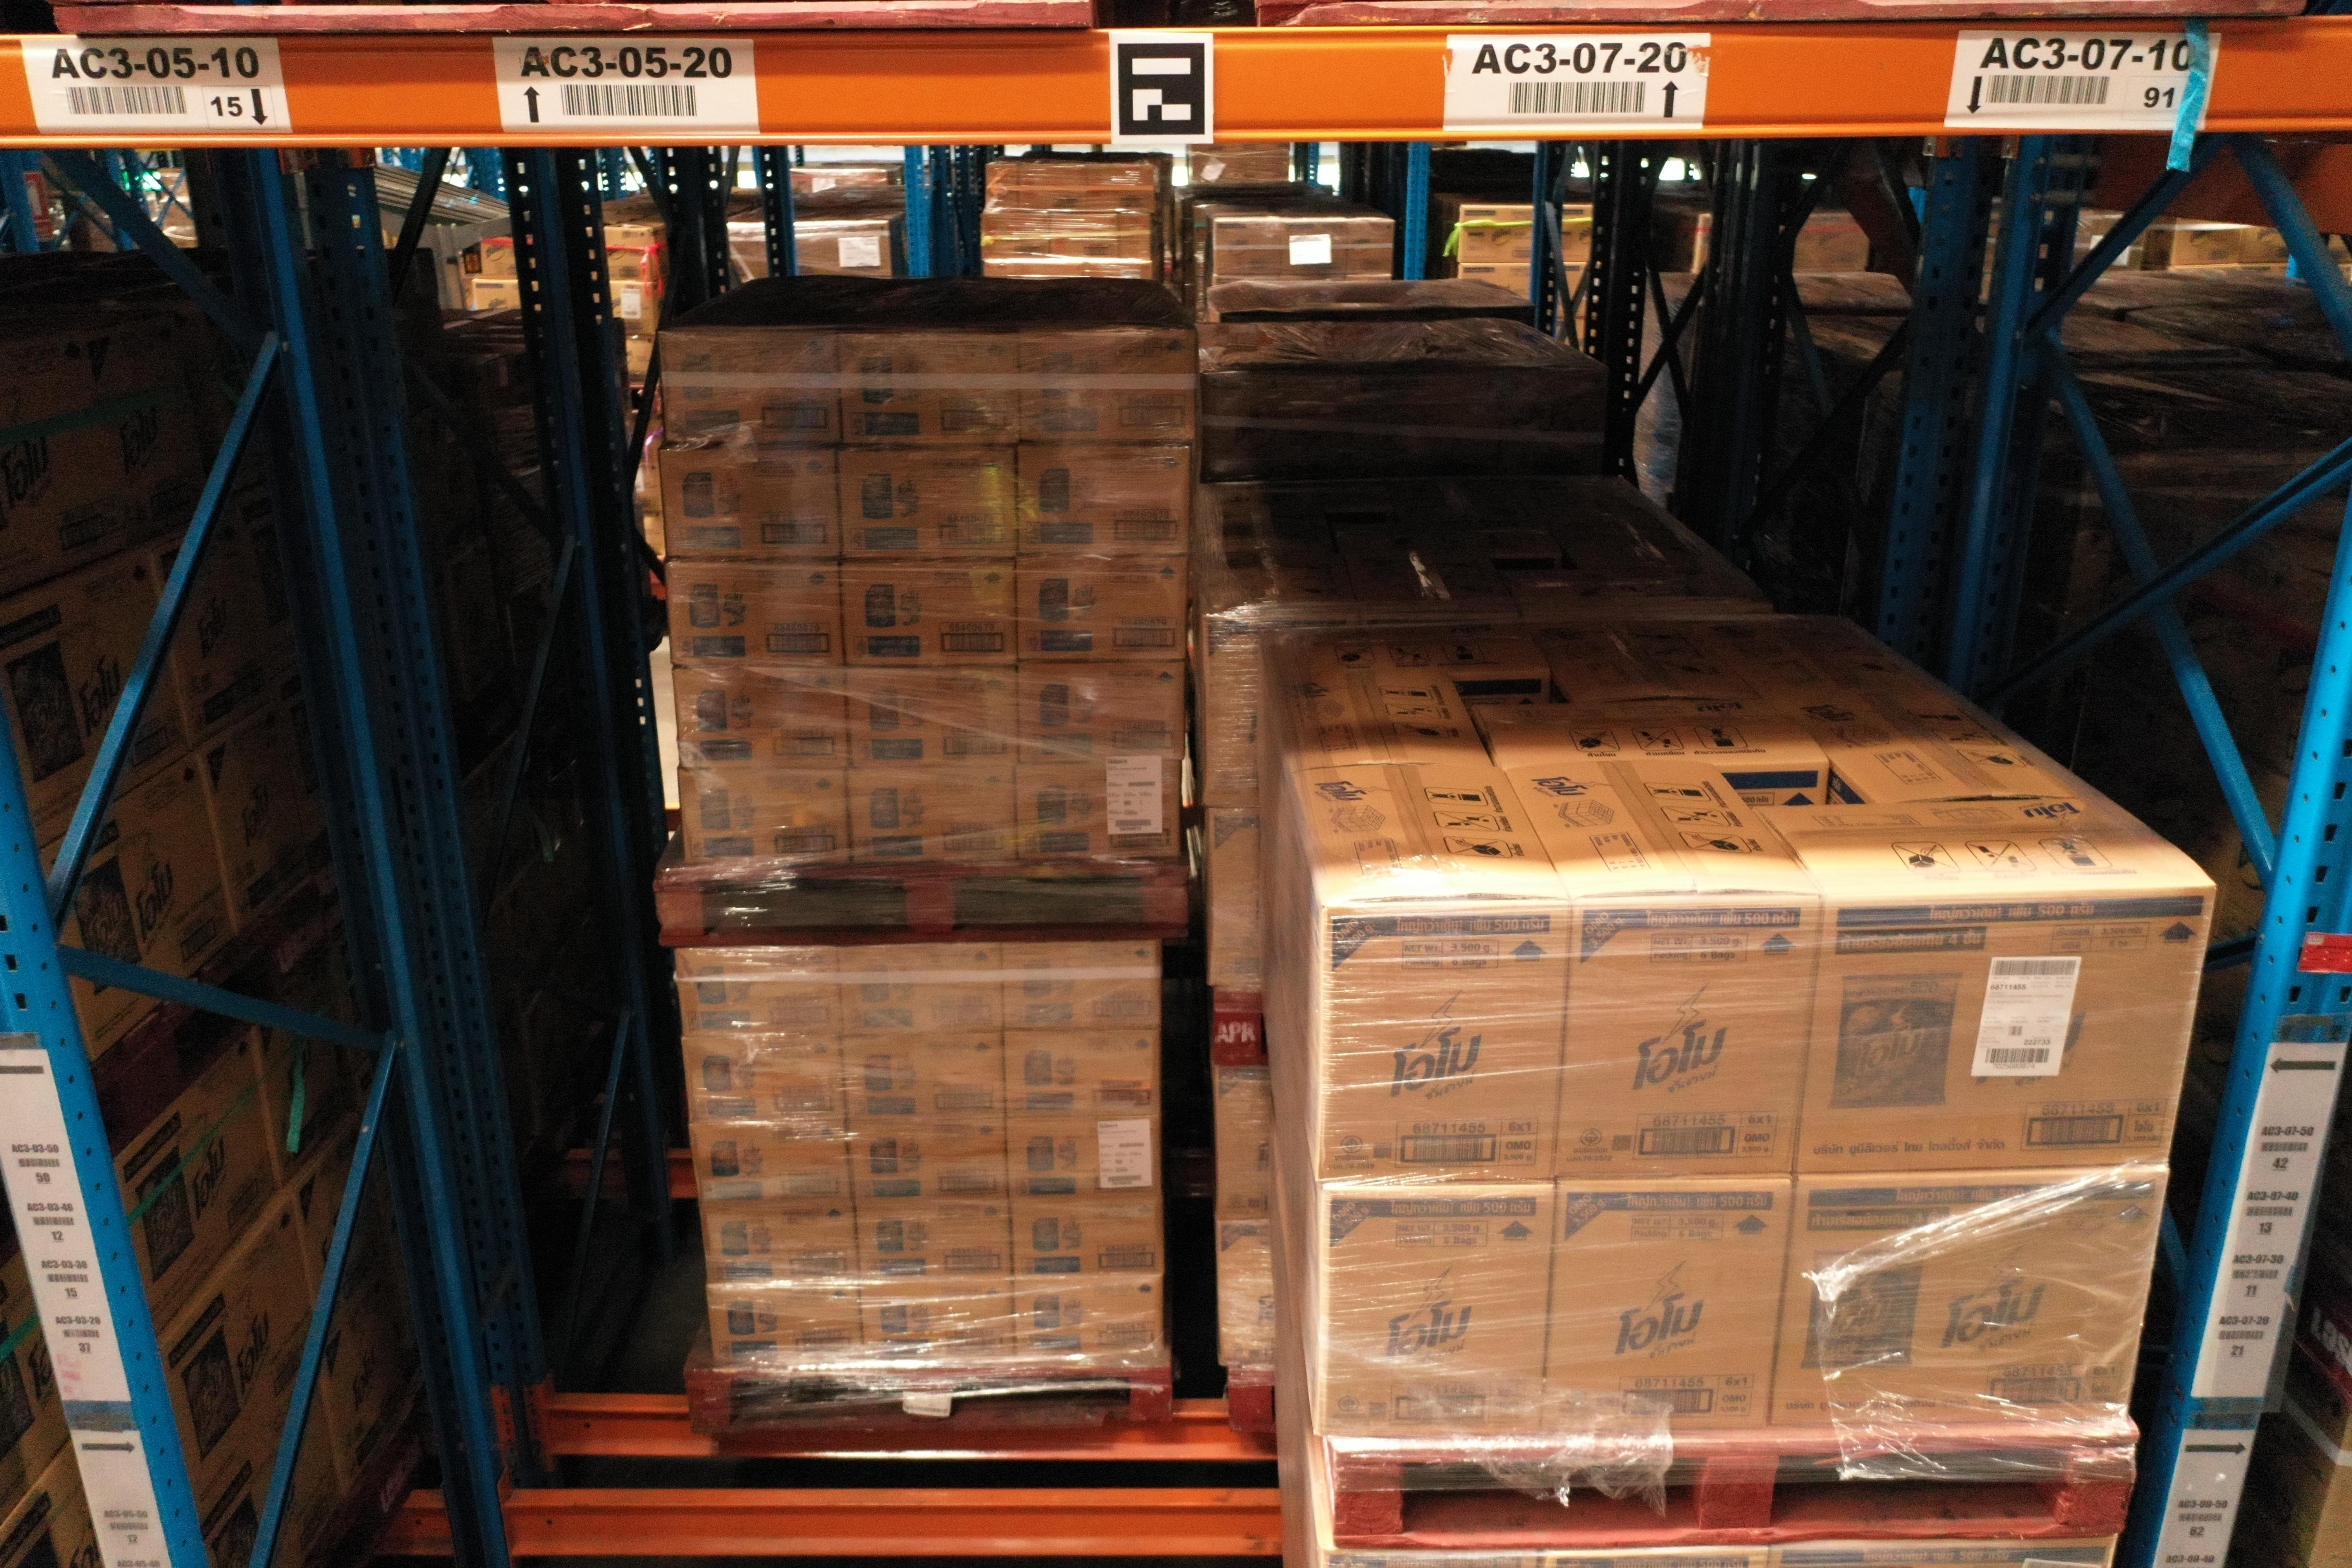-: (1797, 885, 2214, 1179), (1764, 1169, 2166, 1435), (1556, 894, 1820, 1181), (1309, 903, 1571, 1190), (1538, 1185, 1794, 1438), (1318, 1186, 1557, 1442)
box: (831, 327, 1017, 450), (656, 444, 842, 563), (658, 327, 842, 446), (836, 444, 1018, 563), (1015, 443, 1190, 563), (663, 556, 849, 668), (1015, 331, 1195, 443), (840, 558, 1015, 667), (677, 766, 854, 873), (1011, 759, 1181, 868), (845, 663, 1017, 770), (1011, 558, 1185, 663), (847, 763, 1017, 868), (1010, 661, 1181, 765), (675, 668, 849, 770), (833, 943, 1004, 1039), (840, 1031, 1006, 1127), (1001, 940, 1162, 1032), (675, 948, 842, 1038), (1001, 1029, 1160, 1122), (684, 1036, 842, 1129), (707, 1283, 866, 1372), (852, 1200, 1013, 1288), (1013, 1276, 1162, 1370), (845, 1118, 1008, 1204), (857, 1283, 1017, 1368), (691, 1123, 850, 1207), (698, 1202, 857, 1286), (1006, 1116, 1160, 1200), (1008, 1200, 1162, 1283)
